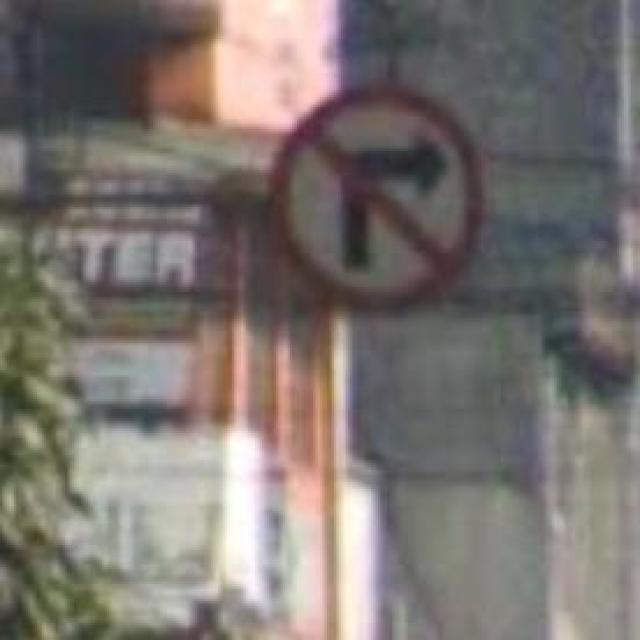traffic sign: (276, 83, 482, 312)
